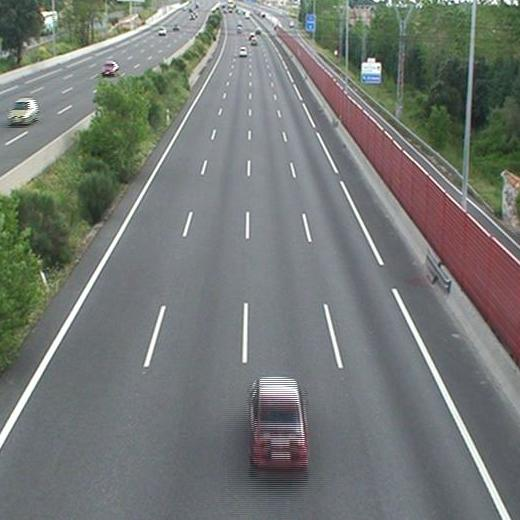car: (251, 378, 305, 463), (239, 47, 247, 56)
